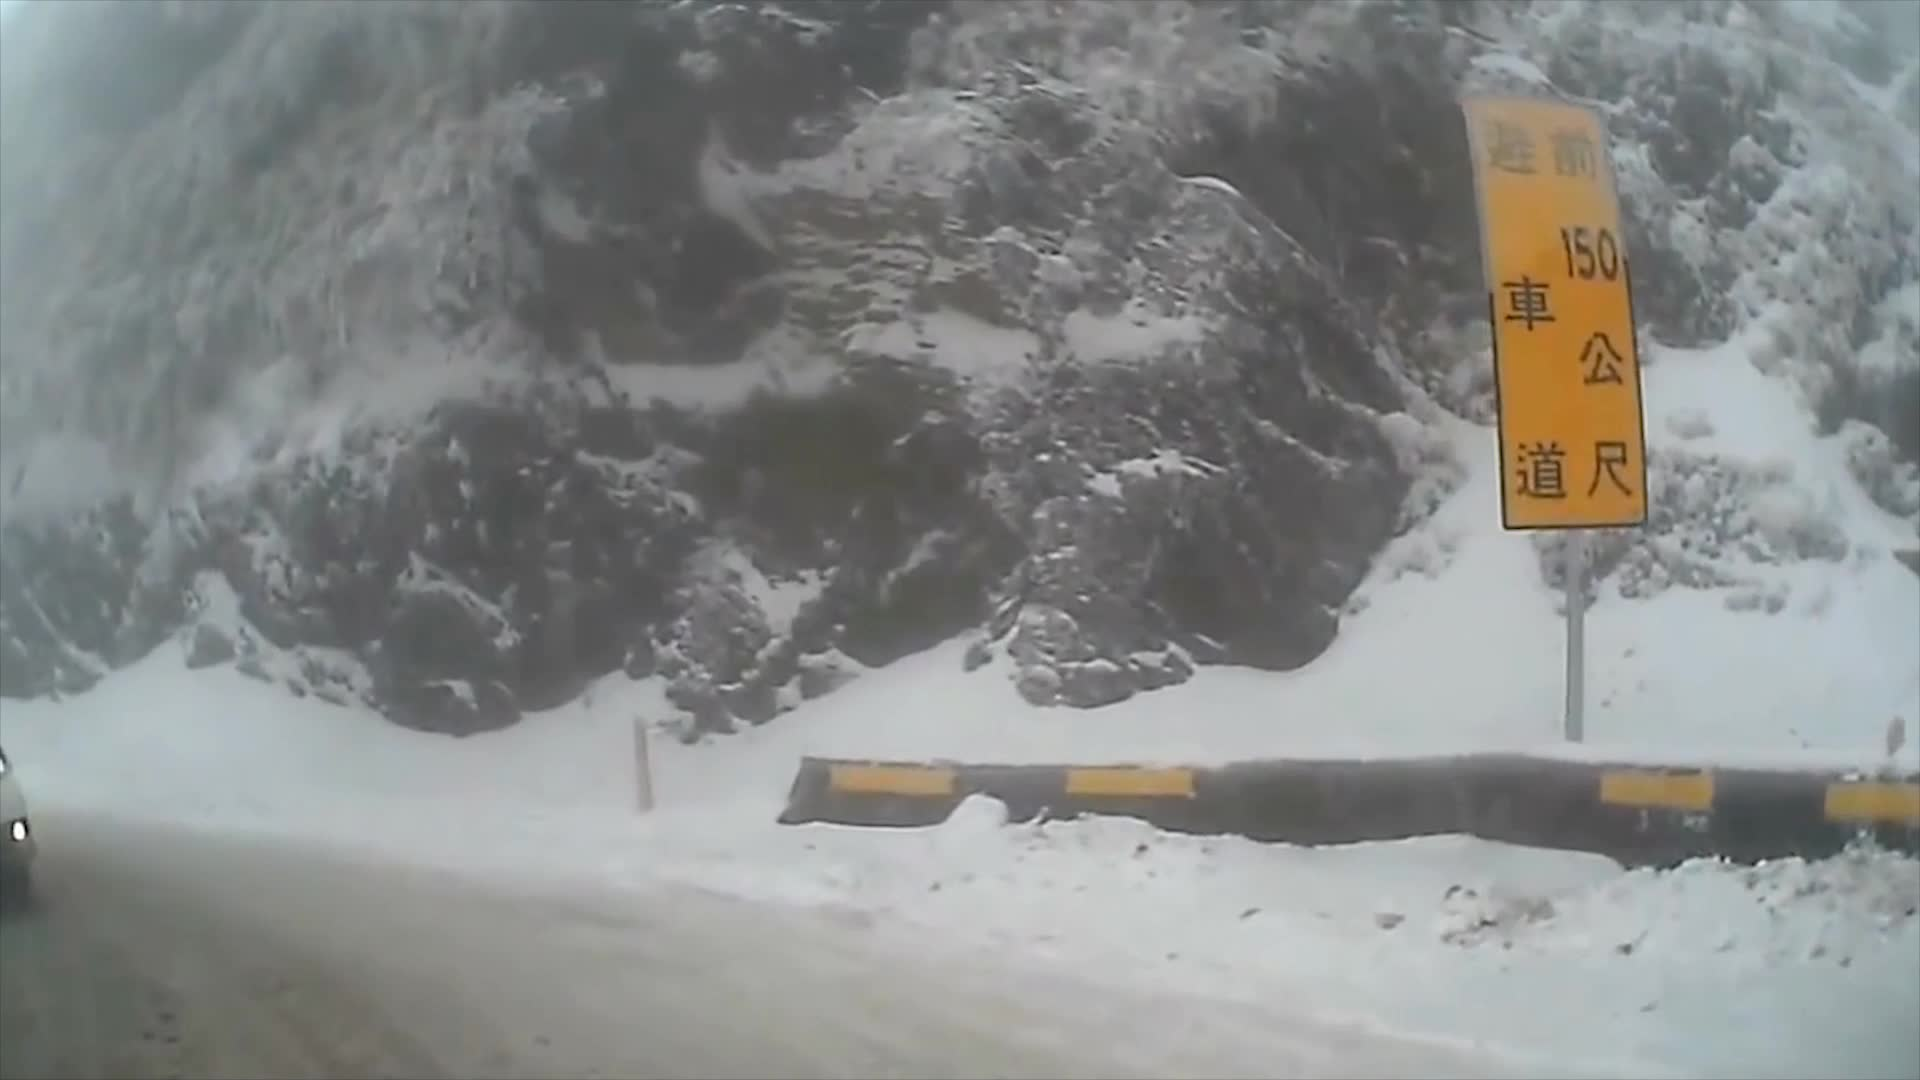vehicle: (0, 752, 36, 913)
